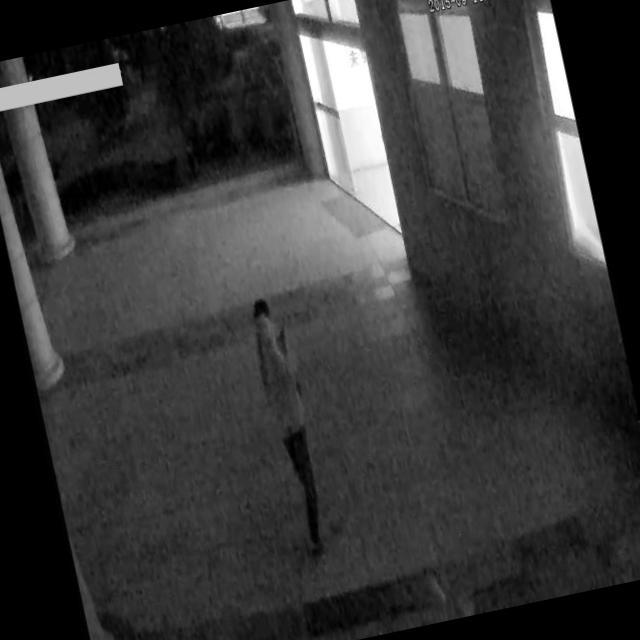person: (235, 278, 354, 588)
